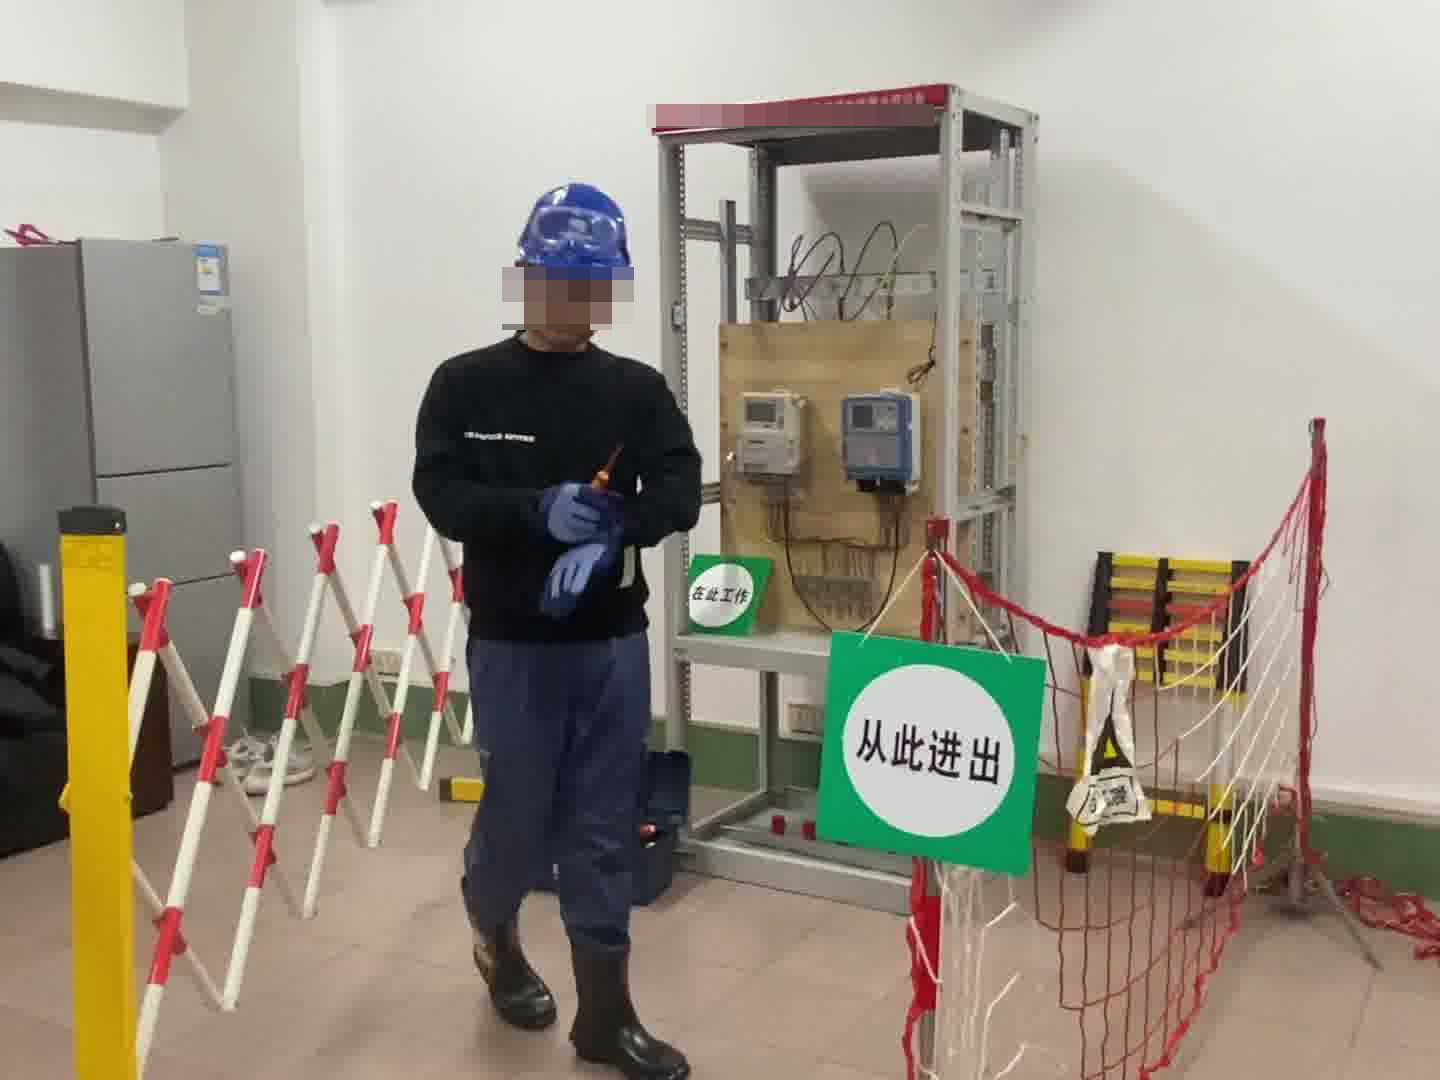downsuit: (459, 643, 654, 890)
glove: (541, 542, 621, 620), (535, 478, 623, 541)
halt: (508, 180, 637, 347)
intosign: (814, 628, 1053, 878)
person: (403, 170, 713, 1079)
shoe: (563, 925, 694, 1080), (459, 879, 559, 1031)
upcloth: (413, 326, 705, 634)
worksign: (688, 552, 773, 638)
